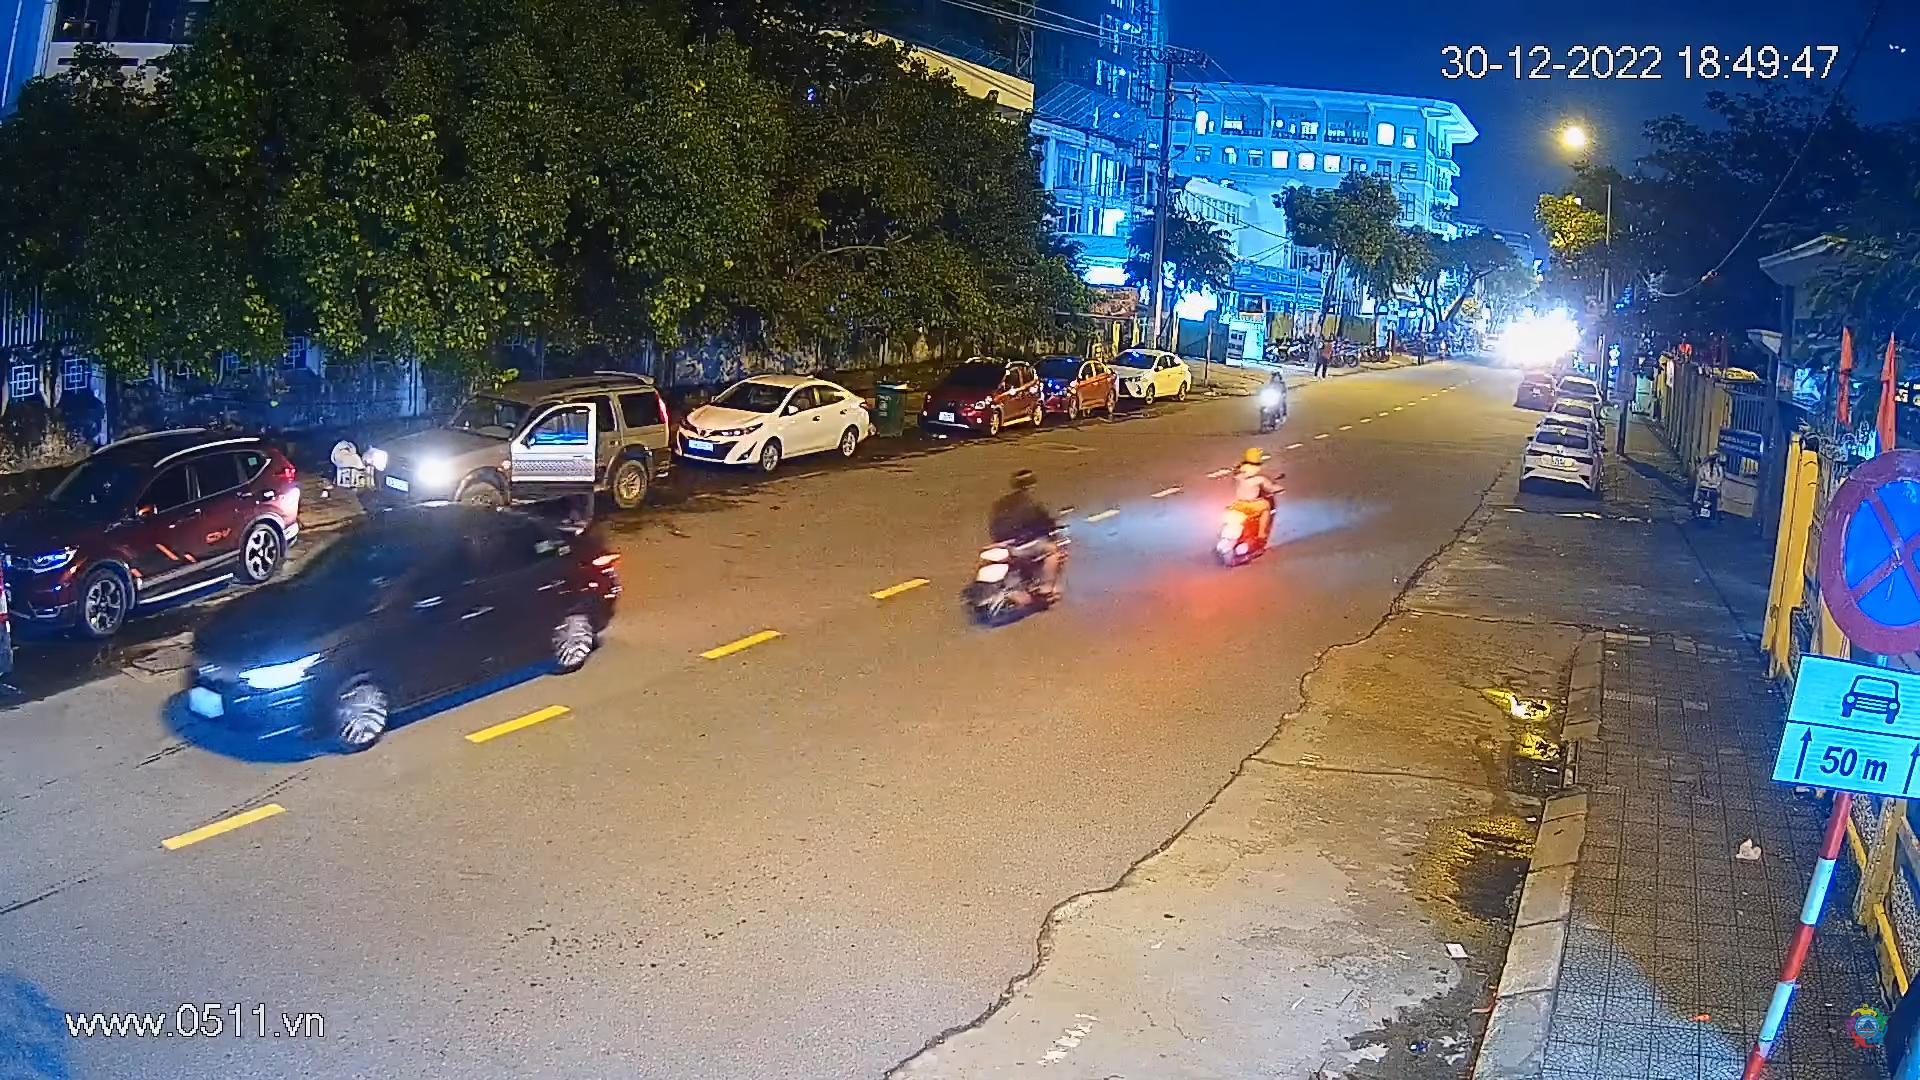car: (179, 522, 618, 757), (0, 422, 309, 640), (401, 371, 686, 538), (694, 375, 876, 468), (906, 355, 1046, 440), (1035, 349, 1126, 427), (1520, 418, 1600, 505), (1105, 349, 1199, 410), (1555, 376, 1604, 414), (1514, 371, 1556, 414)
motorcycle: (965, 460, 1073, 633), (1205, 447, 1291, 572), (1257, 368, 1291, 434)
